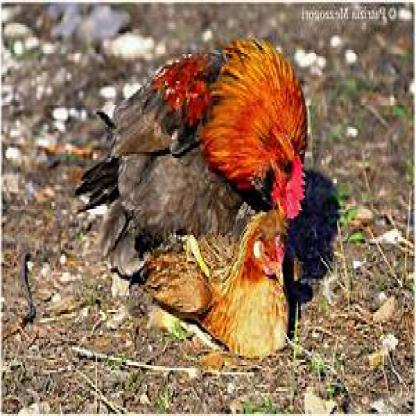chicken: (75, 40, 306, 220), (140, 214, 290, 356)
